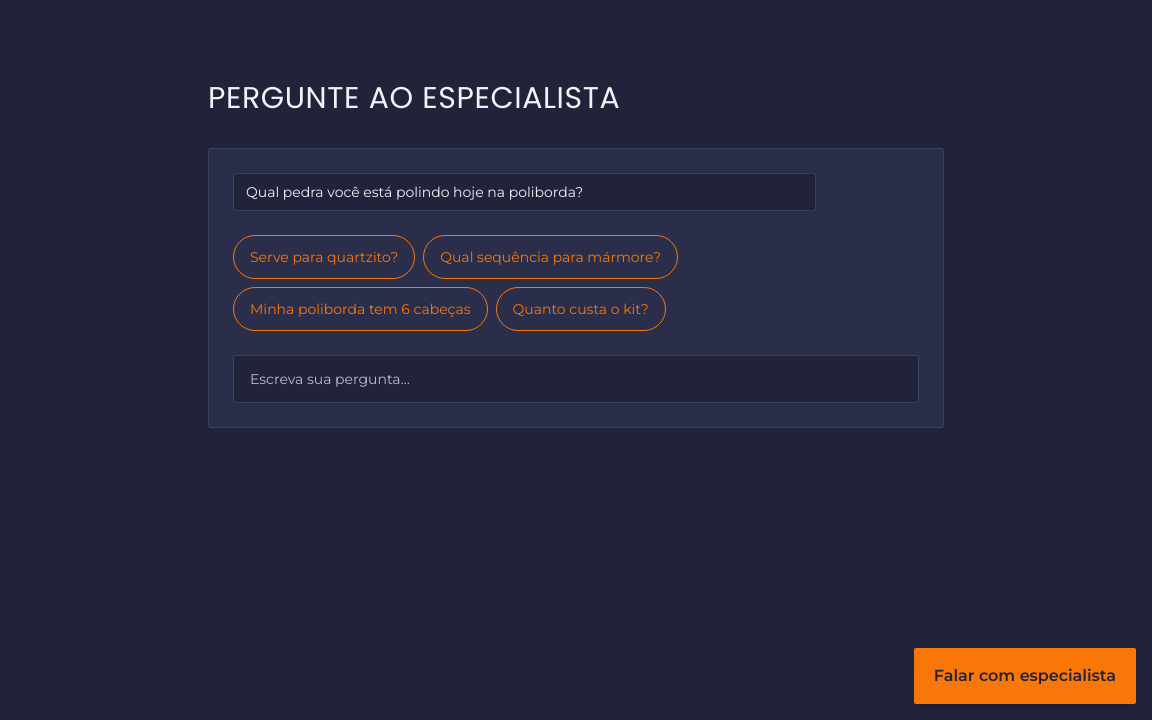
Test: chat embutido › pergunta pronta abre o painel dentro da seção e envia a mensagem
Click the button "Serve para quartzito?" at [324, 257], box [233,235,415,279]
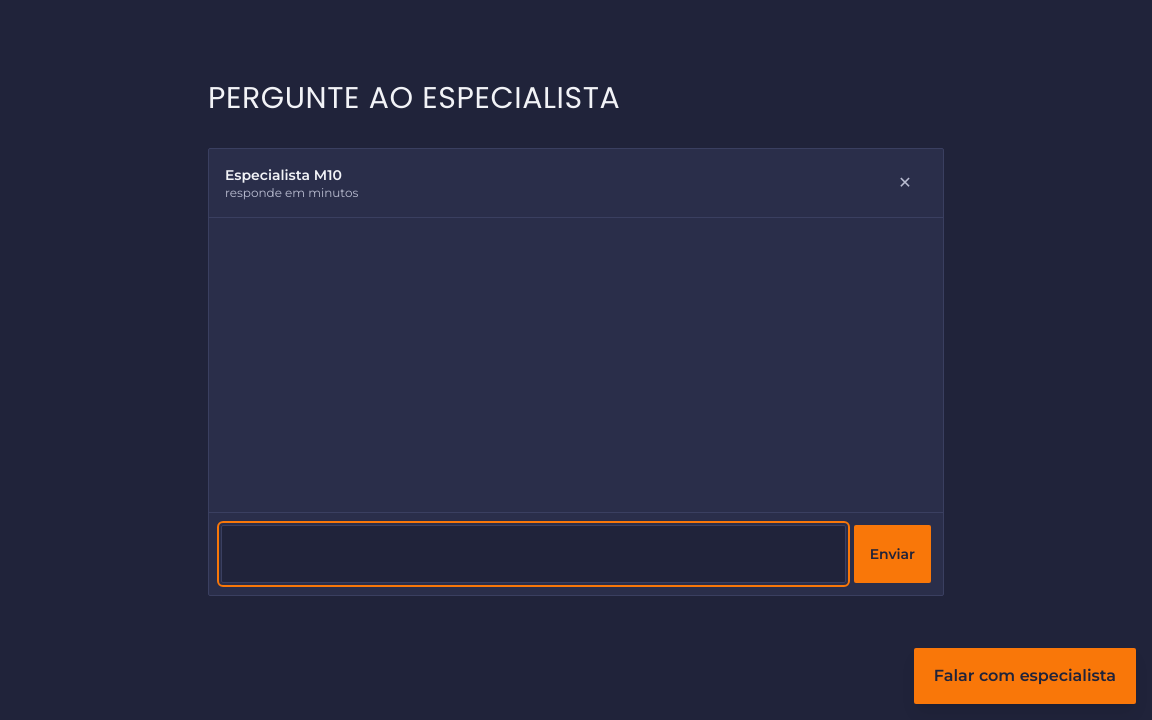
Now the element named "conversa com o especialista" is shown, box [208,148,944,596]
